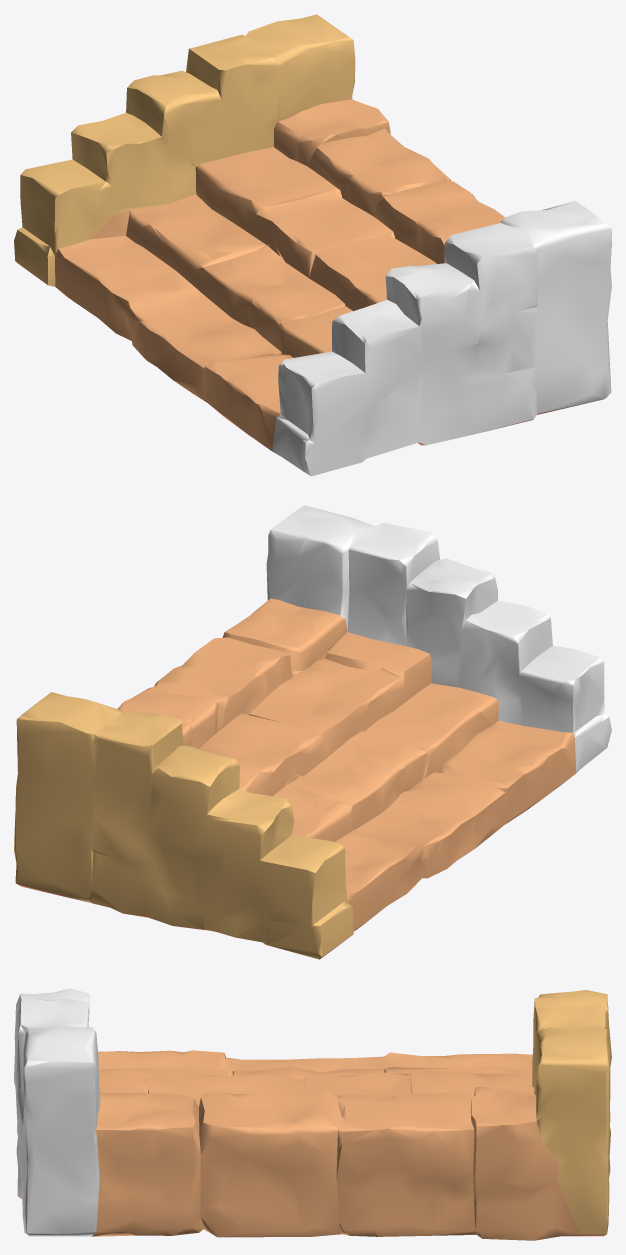
File: Stairs_fbx.fbx
3 views of the same model, one above another, from view 1: azimuth 30°, elevation 25°; view 2: azimuth 150°, elevation 25°; view 3: azimuth 270°, elevation 25° (orthographic).
Parts seen in each view (by area): view 1: Stairs1; view 2: Stairs1; view 3: Stairs1.
Part boxes in pixels (<box>): Stairs1: <box>14,14,611,476</box>; Stairs1: <box>14,505,611,959</box>; Stairs1: <box>14,988,611,1240</box>.
Bounding box in the file's own units: 1.19 × 0.6658 × 1.95.
